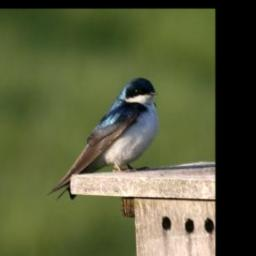Swallow: (47, 75, 161, 207)
